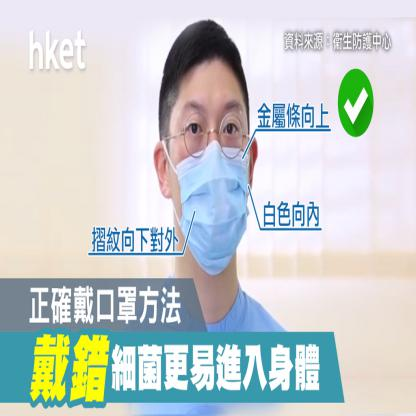Wearing_Mask: (169, 92, 248, 270)
